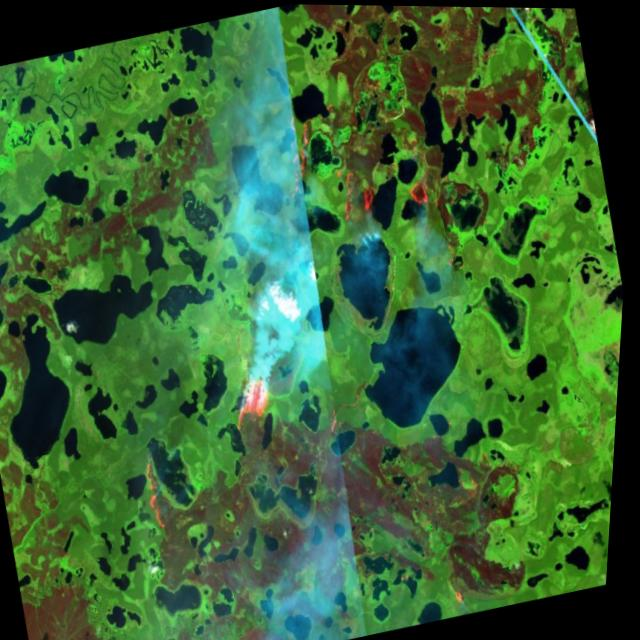fire: (272, 59, 454, 245), (218, 361, 293, 457), (137, 446, 184, 532)
